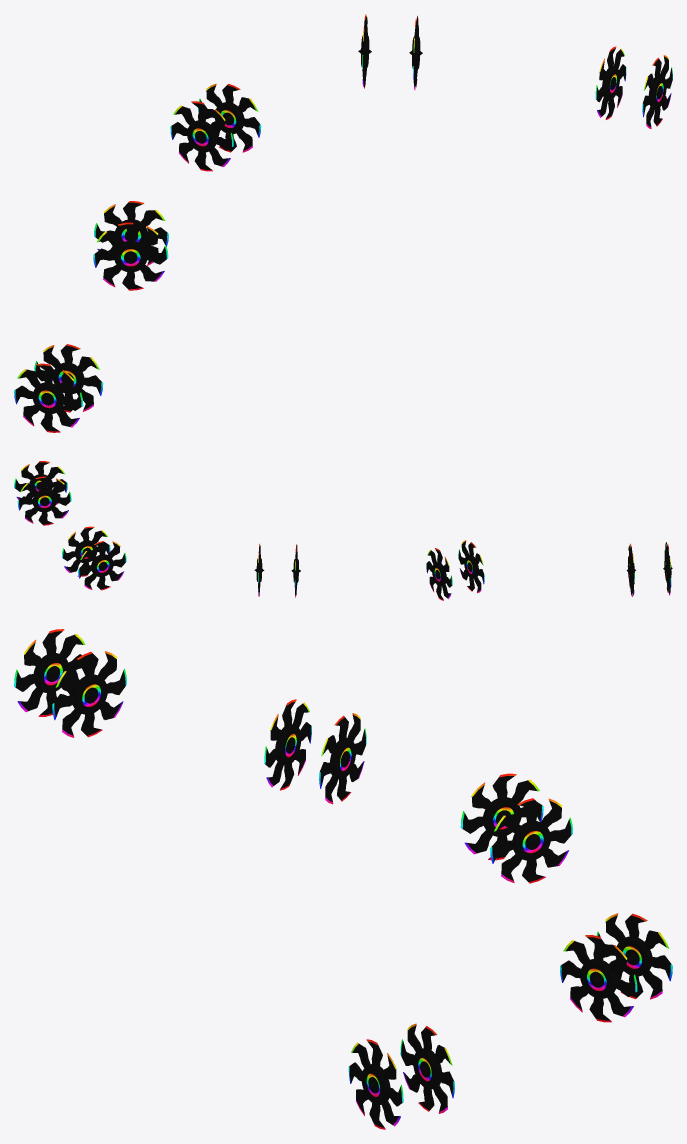
Rendered from xenosands-monuments-sunwheels.glb.
The picture shows the model from 3 angles, top to bottom: view 1: azimuth 30°, elevation 25°; view 2: azimuth 150°, elevation 25°; view 3: azimuth 270°, elevation 25°; orthographic projection. The views are drawn at different scales.
Visible parts, largest first — view 1: SunWheel.007, SunWheel.005, SunWheel.009, SunWheel.004, SunWheel.008, SunWheel.006, SunWheel.003, SunWheel.002; view 2: SunWheel.003, SunWheel.001, SunWheel, SunWheel.006, SunWheel.002, SunWheel.007, SunWheel.005, SunWheel.004; view 3: SunWheel.008, SunWheel, SunWheel.004, SunWheel.005, SunWheel.001, SunWheel.009, SunWheel.002, SunWheel.003, SunWheel.006, SunWheel.007.
Boxes of the visible parts, bbox=[...] form: SunWheel.007: bbox=[93, 222, 168, 290]; SunWheel.005: bbox=[14, 363, 83, 432]; SunWheel.009: bbox=[170, 101, 233, 171]; SunWheel.004: bbox=[34, 344, 103, 412]; SunWheel.008: bbox=[198, 84, 261, 152]; SunWheel.006: bbox=[94, 201, 168, 265]; SunWheel.003: bbox=[595, 46, 626, 119]; SunWheel.002: bbox=[642, 55, 672, 128]; SunWheel.003: bbox=[17, 476, 71, 525]; SunWheel.001: bbox=[78, 541, 126, 590]; SunWheel: bbox=[61, 526, 110, 576]; SunWheel.006: bbox=[426, 548, 452, 600]; SunWheel.002: bbox=[14, 461, 67, 508]; SunWheel.007: bbox=[458, 540, 484, 593]; SunWheel.005: bbox=[663, 542, 672, 595]; SunWheel.004: bbox=[626, 543, 635, 596]; SunWheel.008: bbox=[490, 798, 572, 883]; SunWheel: bbox=[560, 935, 637, 1022]; SunWheel.004: bbox=[52, 651, 126, 737]; SunWheel.005: bbox=[14, 629, 85, 716]; SunWheel.001: bbox=[596, 913, 672, 999]; SunWheel.009: bbox=[460, 773, 543, 860]; SunWheel.002: bbox=[348, 1039, 403, 1129]; SunWheel.003: bbox=[400, 1023, 454, 1113]; SunWheel.006: bbox=[319, 713, 366, 804]; SunWheel.007: bbox=[264, 699, 311, 790].
Size of the model in its own units: 22.37 by 3.15 by 13.06.
1 material, 1 textured.
